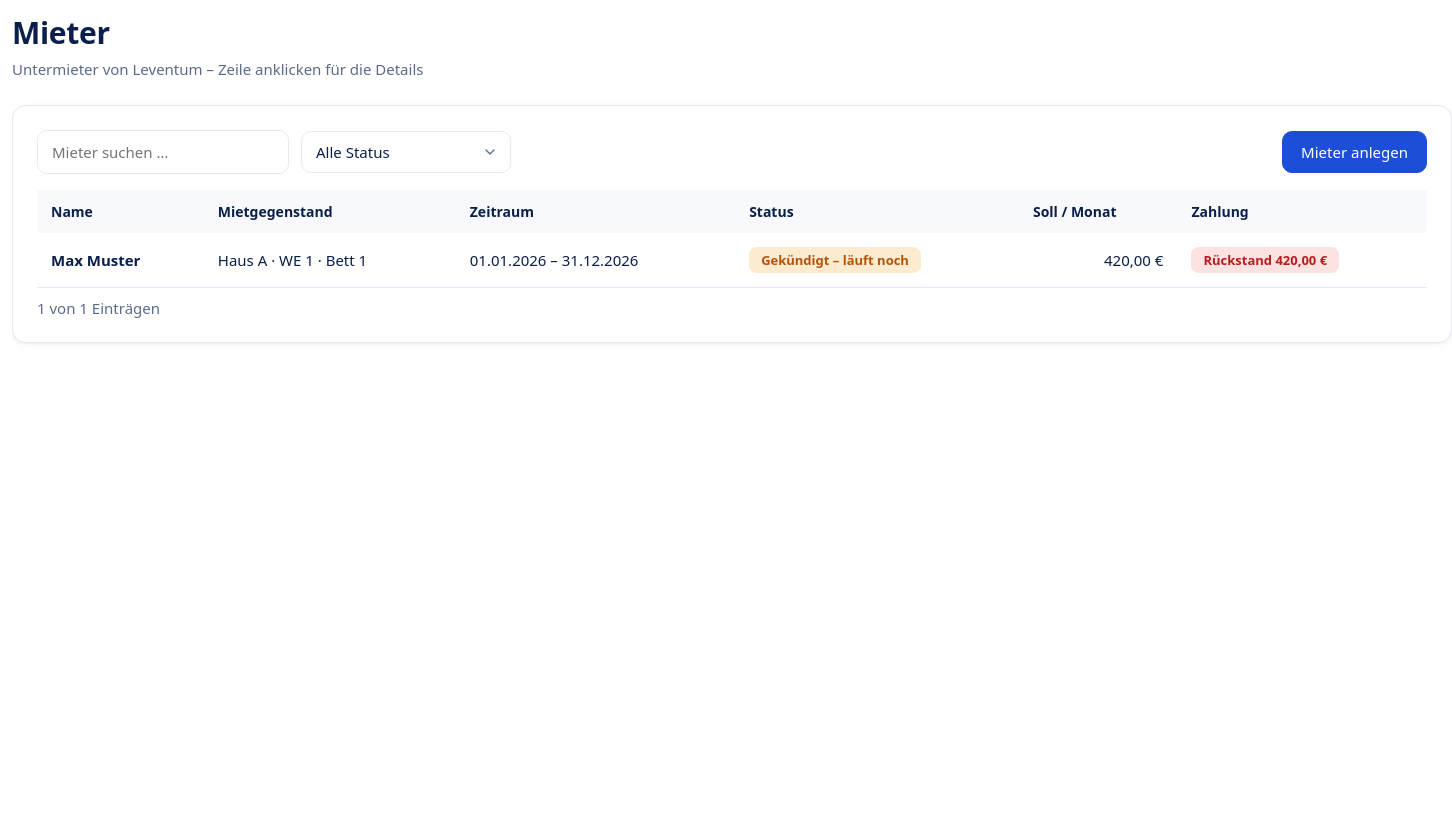
Test: Mieterliste mit Detailpanel › zeigt Phase (gekündigt, läuft noch), lädt Panel erst nach Klick mit einer gebündelten Abfrage
Check: the text "Gekündigt – läuft noch" is shown, box [749, 247, 921, 273]
Click the text "Max Muster" at (96,260), box [51, 250, 140, 270]
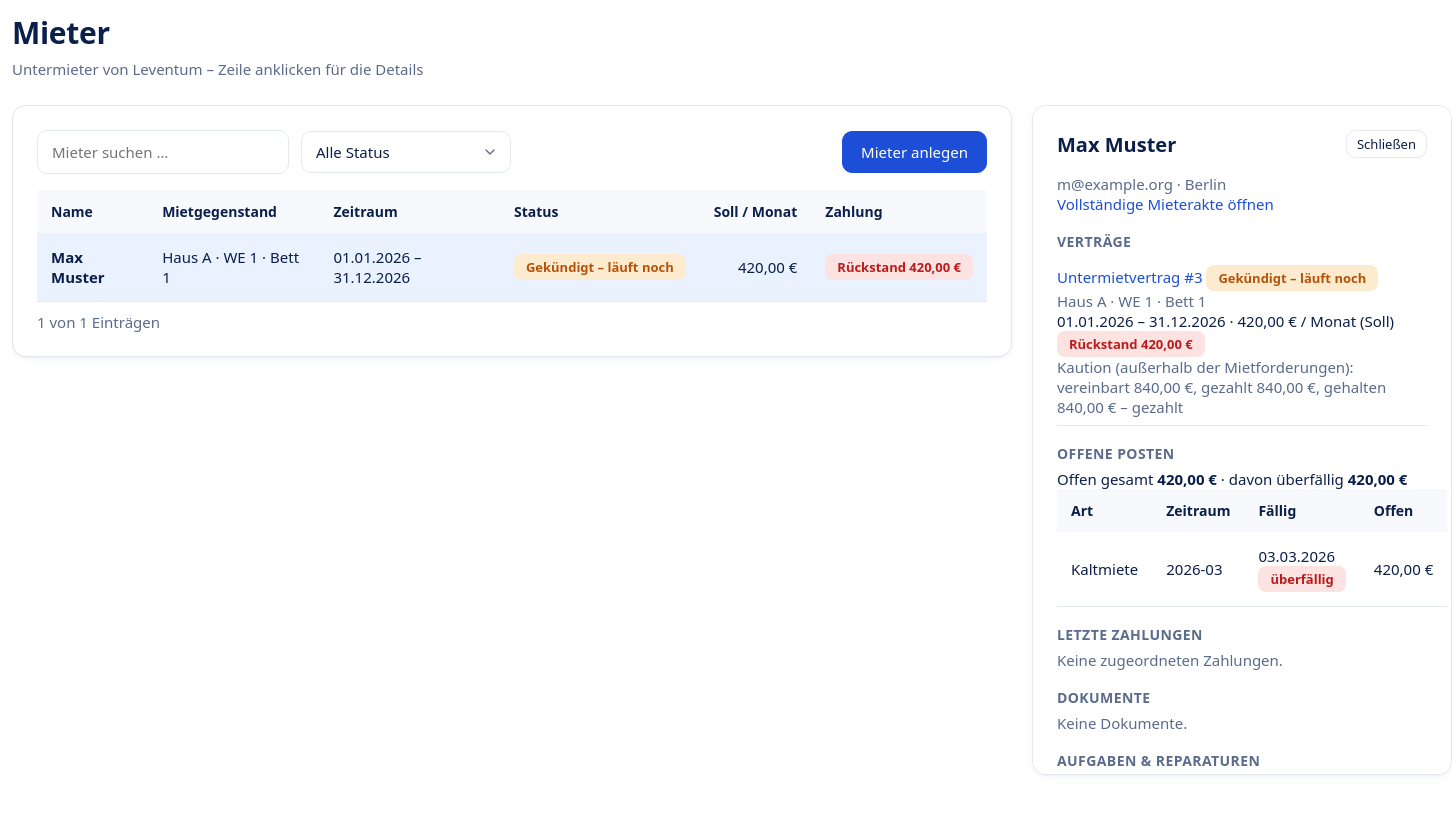
Check: the heading "Offene Posten" is shown, box [1057, 444, 1175, 463]
Check: the text "Kaution (außerhalb der Mietforderungen)" is shown, box [1057, 357, 1354, 397]
Click the button with aria-label "Detailpanel schließen" at (1386,144), box [1346, 130, 1427, 158]
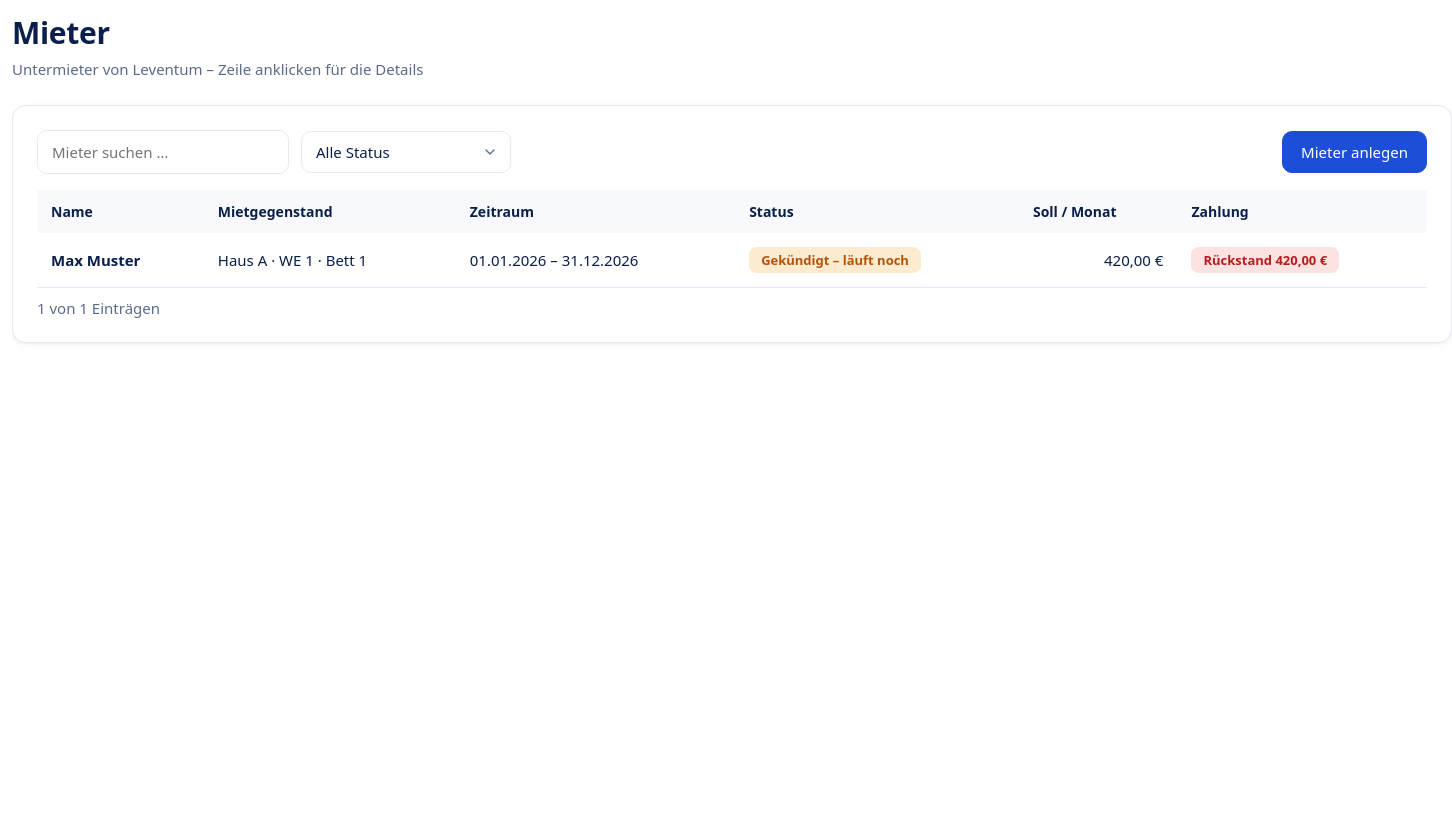
Check: the element with test id "tenant-panel" is gone
